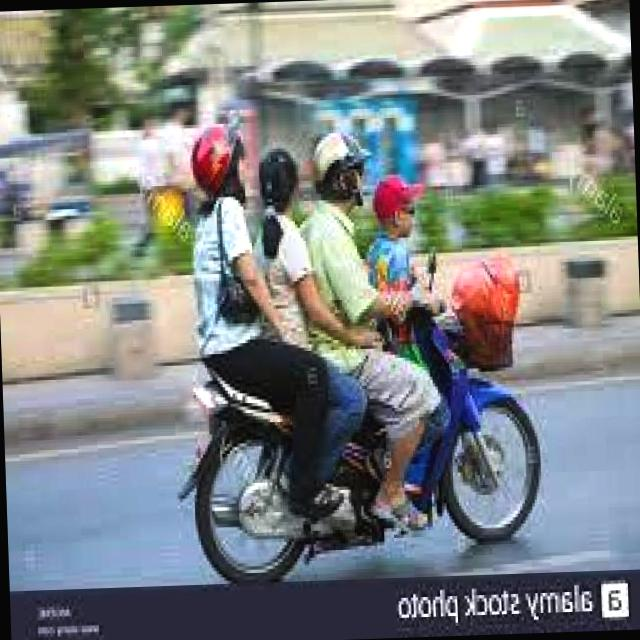motorcycle: (158, 281, 548, 588)
person: (280, 124, 398, 507), (164, 113, 276, 466), (235, 140, 312, 445), (371, 165, 444, 428)
rider_region: (159, 108, 549, 590)
